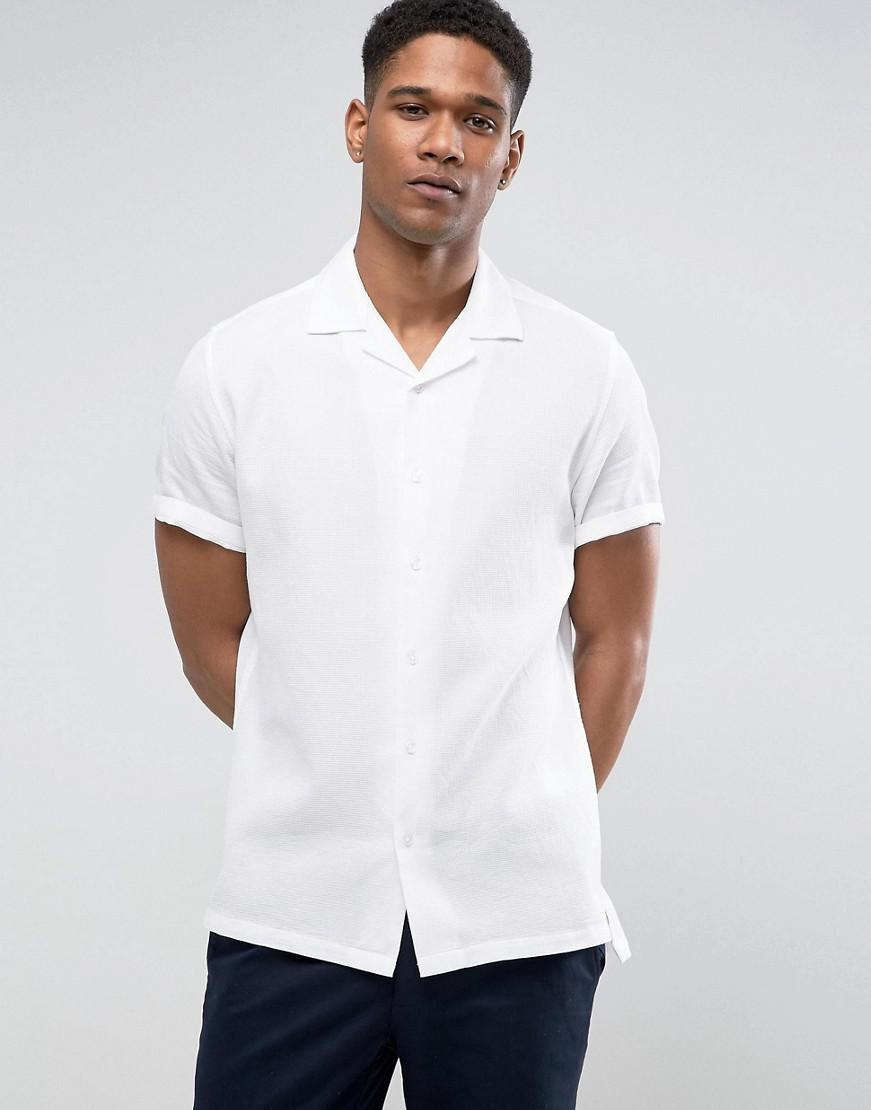teeshirt: (139, 222, 669, 986)
